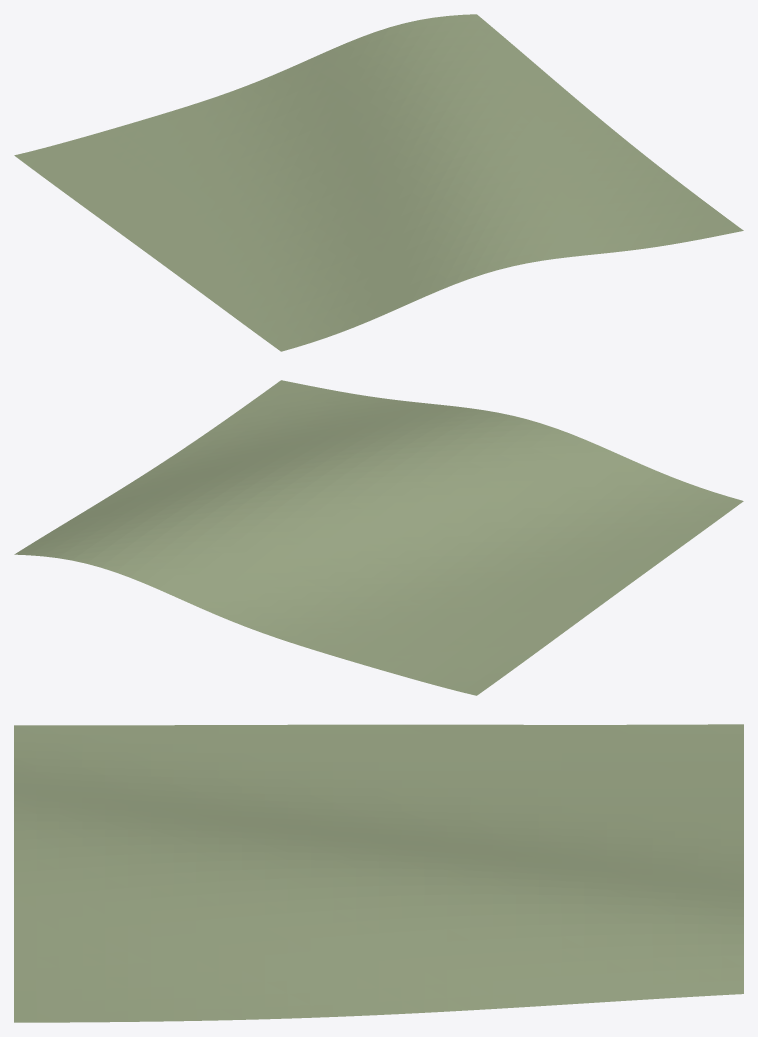
Rendered from desert-5-7.glb.
3 renders of one model, top to bottom at view 1: azimuth 30°, elevation 25°; view 2: azimuth 150°, elevation 25°; view 3: azimuth 270°, elevation 25°, orthographic. The views are drawn at different scales.
Visible parts, largest first — view 1: desert-5-7; view 2: desert-5-7; view 3: desert-5-7.
Part boxes in pixels (x1,y1,x2,y2): desert-5-7: [14, 14, 743, 351]; desert-5-7: [14, 380, 743, 695]; desert-5-7: [14, 724, 743, 1022].
Bounding box in the file's own units: 512 × 40.96 × 512.
